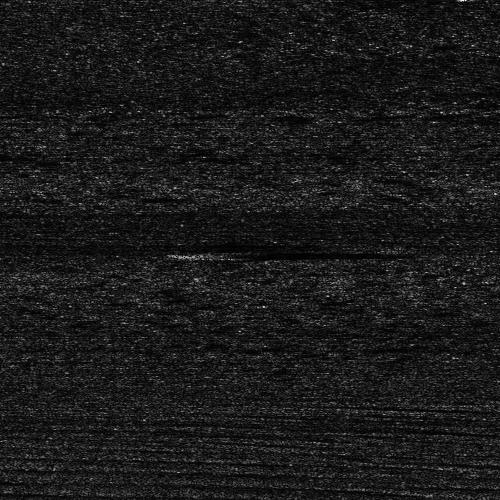rock: (158, 248, 241, 257)
shadow: (200, 248, 356, 257)
